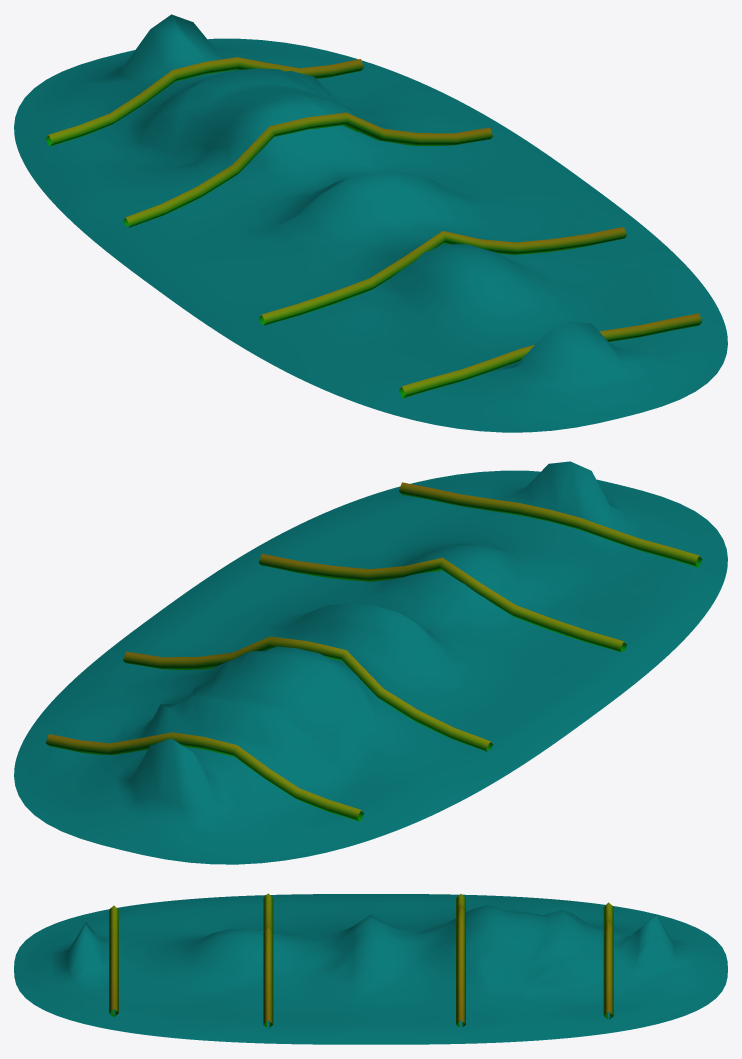
The model's file is shroud_bound_a.glb.
The picture shows the model from 3 angles, top to bottom: view 1: azimuth 30°, elevation 25°; view 2: azimuth 150°, elevation 25°; view 3: azimuth 270°, elevation 25°; orthographic projection. The views are drawn at different scales.
Visible parts, largest first — view 1: shroud_bound_a; view 2: shroud_bound_a; view 3: shroud_bound_a.
Part boxes in pixels (<box>): shroud_bound_a: <box>14,14,727,432</box>; shroud_bound_a: <box>14,461,727,864</box>; shroud_bound_a: <box>14,893,727,1044</box>.
Size of what is drawn, in the model's own units: 1 by 0.1664 by 2.
